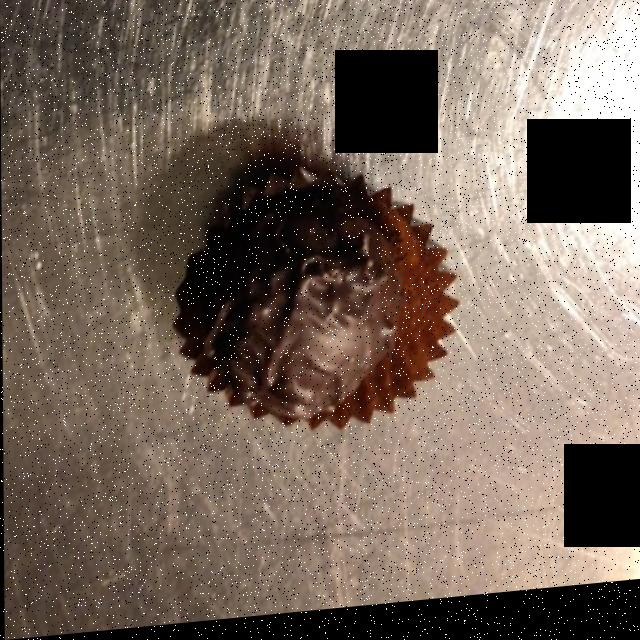praline: (171, 172, 450, 430)
